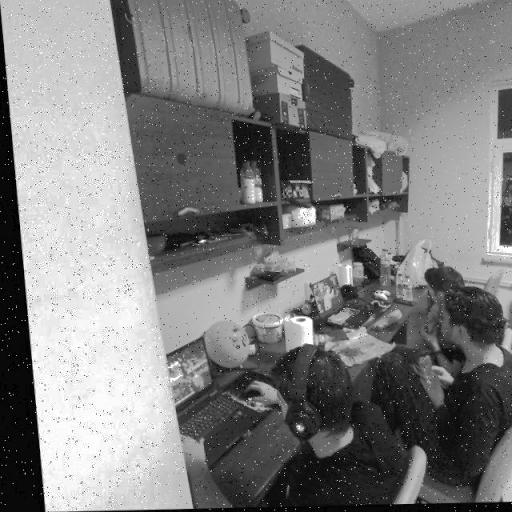balloon: (198, 320, 244, 372)
